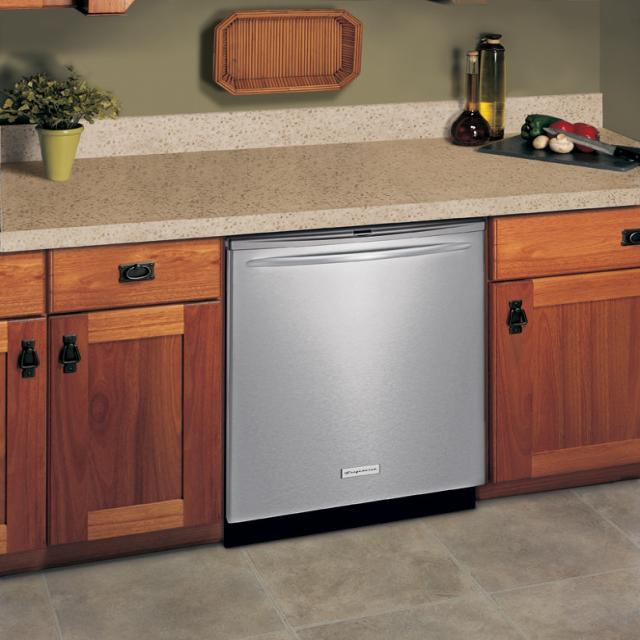dishwasher: (217, 228, 506, 530)
